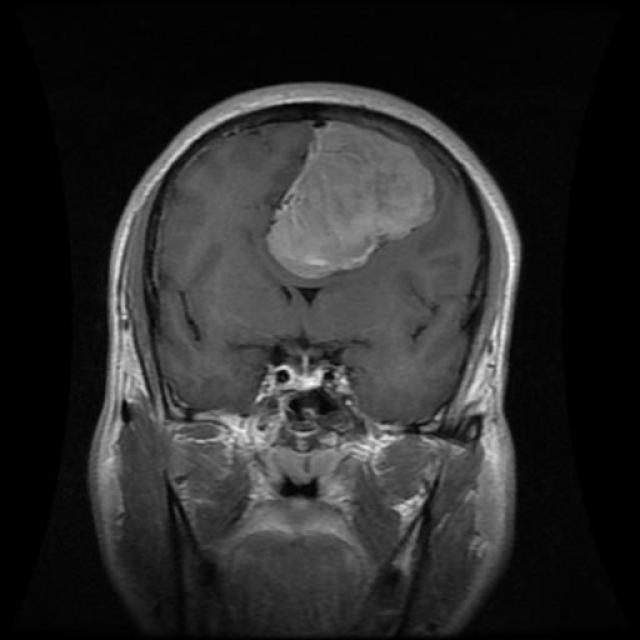Tumor: (265, 121, 435, 281)
